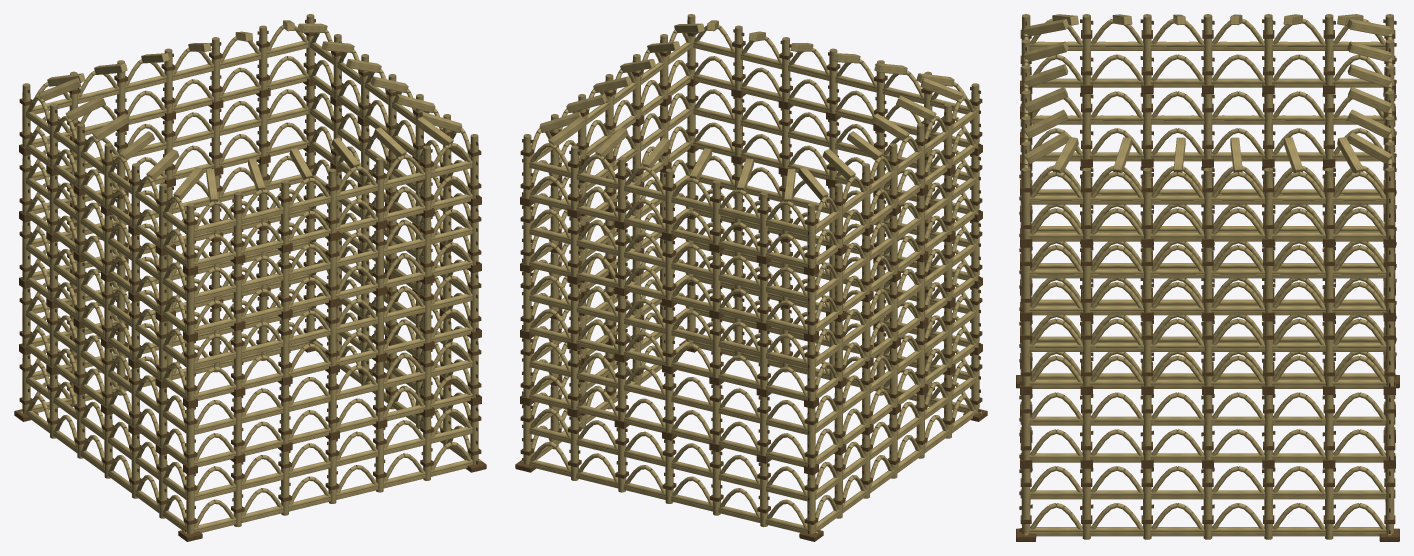
The picture shows the model from 3 angles, left to right: view 1: azimuth 30°, elevation 25°; view 2: azimuth 150°, elevation 25°; view 3: azimuth 270°, elevation 25°; orthographic projection. The views are drawn at different scales.
Visible parts, largest first — view 1: no part large enough to name; view 2: no part large enough to name; view 3: Tier 4 side 3 post 3, Tier 0 side 1 post 3, Tier 4 side 1 post 3, Tier 4 side 1 post 0, Tier 4 side 2 post 0, Tier 4 side 3 post 1, Tier 4 side 3 post 5, Crown petal 2-0, Tier 2 side 1 post 3, Tier 4 side 3 post 2, Tier 3 side 1 post 3, Tier 2 side 1 post 0 (+46 smaller).
Boxes of the visible parts, <box> form: Tier 4 side 3 post 3: <box>1203,14,1212,85</box>; Tier 0 side 1 post 3: <box>1203,468,1212,539</box>; Tier 4 side 1 post 3: <box>1203,167,1212,238</box>; Tier 4 side 1 post 0: <box>1021,167,1030,238</box>; Tier 4 side 2 post 0: <box>1385,167,1394,238</box>; Tier 4 side 3 post 1: <box>1325,14,1333,85</box>; Tier 4 side 3 post 5: <box>1082,14,1090,85</box>; Crown petal 2-0: <box>1347,132,1392,164</box>; Tier 2 side 1 post 3: <box>1203,321,1212,386</box>; Tier 4 side 3 post 2: <box>1264,14,1272,85</box>; Tier 3 side 1 post 3: <box>1203,247,1212,312</box>; Tier 2 side 1 post 0: <box>1021,321,1030,386</box>.
Size of the model in its own units: 2.85 by 3.15 by 2.85.
2 materials, 2 textured.
